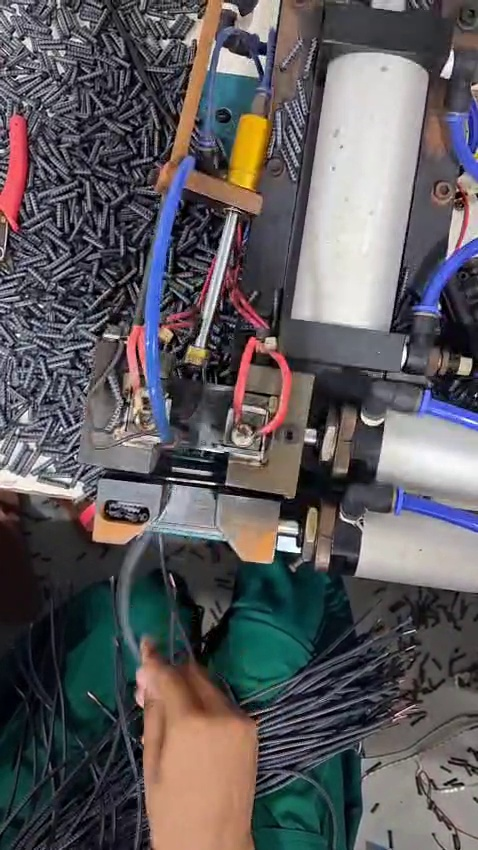intact_wire: (112, 492, 173, 617)
machine: (75, 306, 324, 539)
